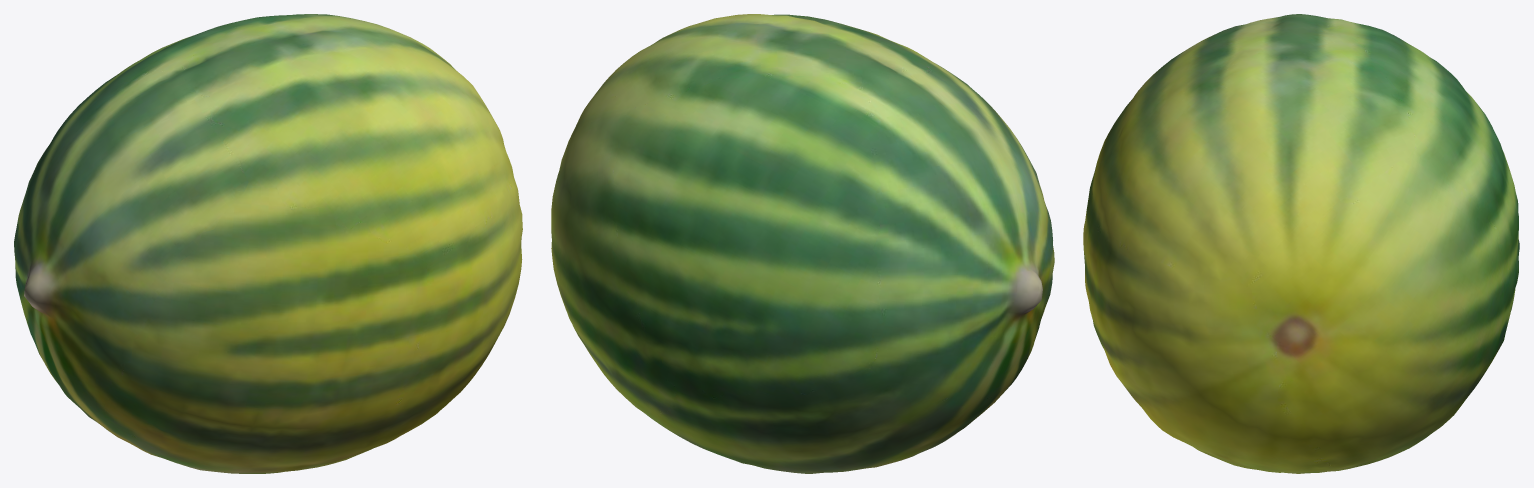
Rendered from watermelon.glb.
3 renders of one model, left to right at view 1: azimuth 30°, elevation 25°; view 2: azimuth 150°, elevation 25°; view 3: azimuth 270°, elevation 25°, orthographic.
Parts seen in each view (by area): view 1: Mesh1; view 2: Mesh1; view 3: Mesh1.
Part boxes in pixels (x1,y1,x2,y2): Mesh1: [14, 14, 522, 473]; Mesh1: [551, 14, 1054, 473]; Mesh1: [1083, 14, 1519, 473].
Bounding box in the file's own units: 1.2 × 1.02 × 0.9957.
Materials: 1 (1 with a texture image).
